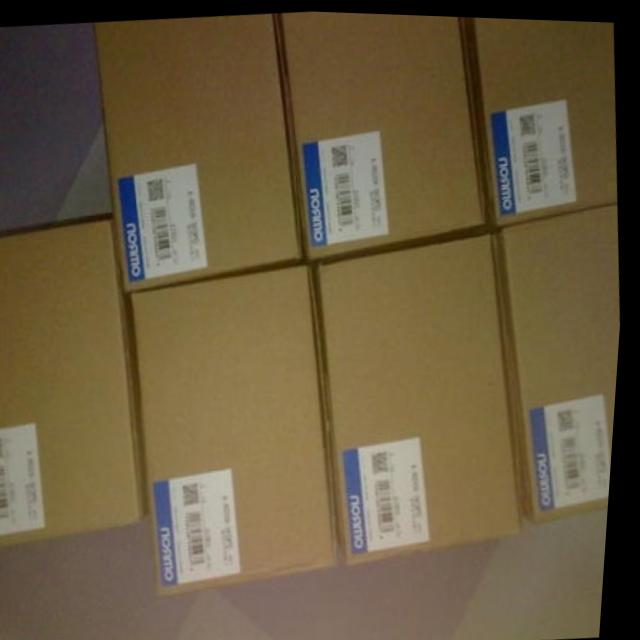box: (134, 261, 347, 596), (318, 230, 532, 563), (91, 11, 310, 292), (278, 9, 488, 258), (0, 211, 153, 550), (500, 199, 624, 521), (466, 14, 620, 225)
